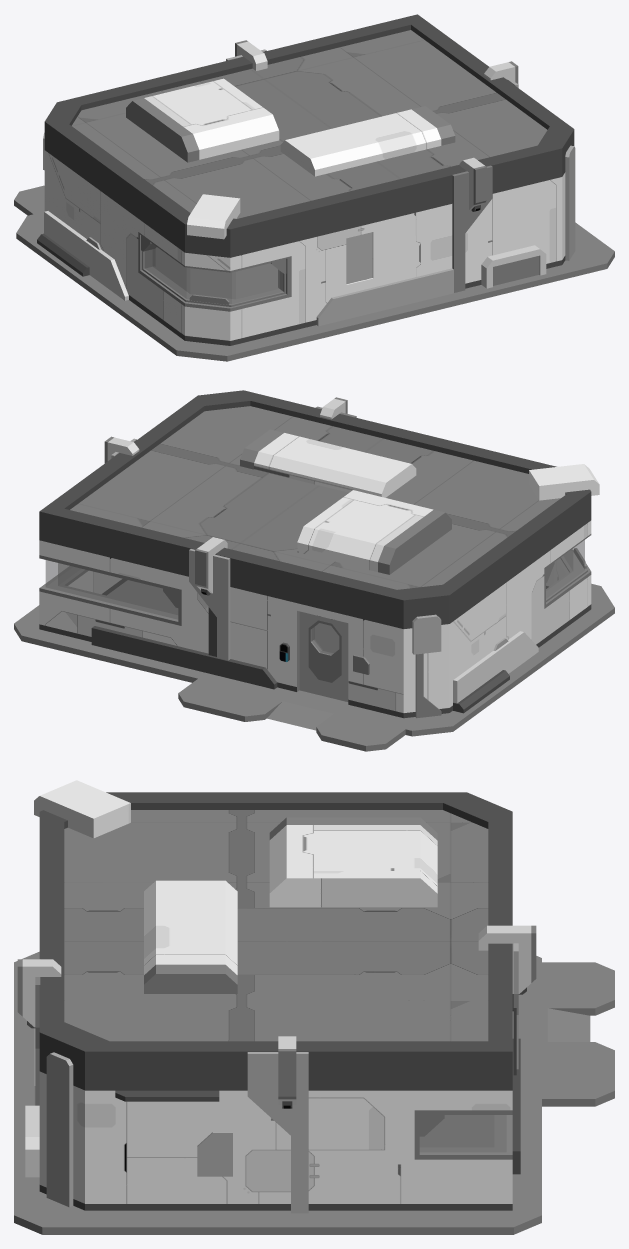
File: SM_Building_4.fbx
The picture shows the model from 3 angles, top to bottom: view 1: azimuth 30°, elevation 25°; view 2: azimuth 150°, elevation 25°; view 3: azimuth 270°, elevation 25°; orthographic projection. The views are drawn at different scales.
Parts seen in each view (by area): view 1: SM_Building_4, SM_Building_4_Roof, SM_Building_4_Roof_Extras, SM_Building_4_Floor; view 2: SM_Building_4, SM_Building_4_Roof, SM_Building_4_Floor, SM_Building_4_Roof_Extras, SM_Building_4_Door; view 3: SM_Building_4, SM_Building_4_Roof, SM_Building_4_Floor, SM_Building_4_Roof_Extras.
Boxes of the visible parts, left/top/right/bottom form: SM_Building_4: left=37, top=14, right=575, bottom=345; SM_Building_4_Roof: left=72, top=30, right=547, bottom=239; SM_Building_4_Roof_Extras: left=126, top=78, right=455, bottom=176; SM_Building_4_Floor: left=14, top=185, right=614, bottom=361; SM_Building_4: left=39, top=390, right=591, bottom=718; SM_Building_4_Roof: left=70, top=406, right=599, bottom=589; SM_Building_4_Floor: left=14, top=580, right=614, bottom=751; SM_Building_4_Roof_Extras: left=240, top=429, right=451, bottom=574; SM_Building_4_Door: left=299, top=611, right=348, bottom=701; SM_Building_4: left=17, top=792, right=536, bottom=1213; SM_Building_4_Roof: left=34, top=780, right=488, bottom=1041; SM_Building_4_Floor: left=14, top=951, right=614, bottom=1234; SM_Building_4_Roof_Extras: left=144, top=817, right=437, bottom=993.
Bounding box in the file's own units: 1104 × 347 × 980.
